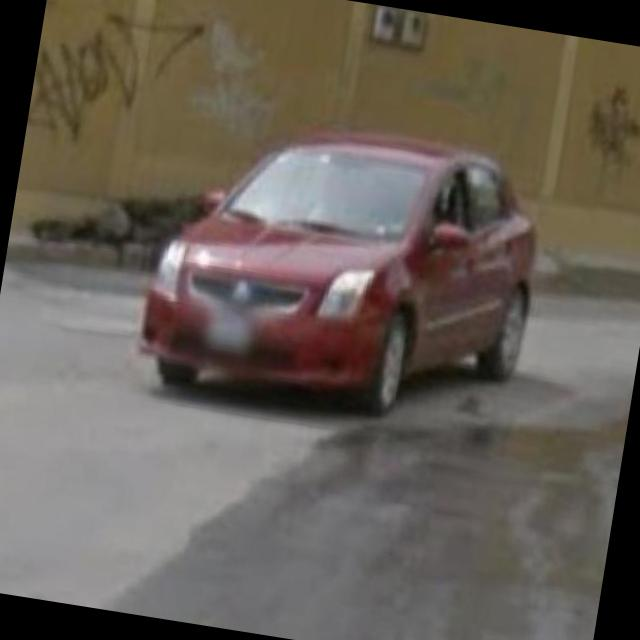car: (120, 95, 564, 462)
